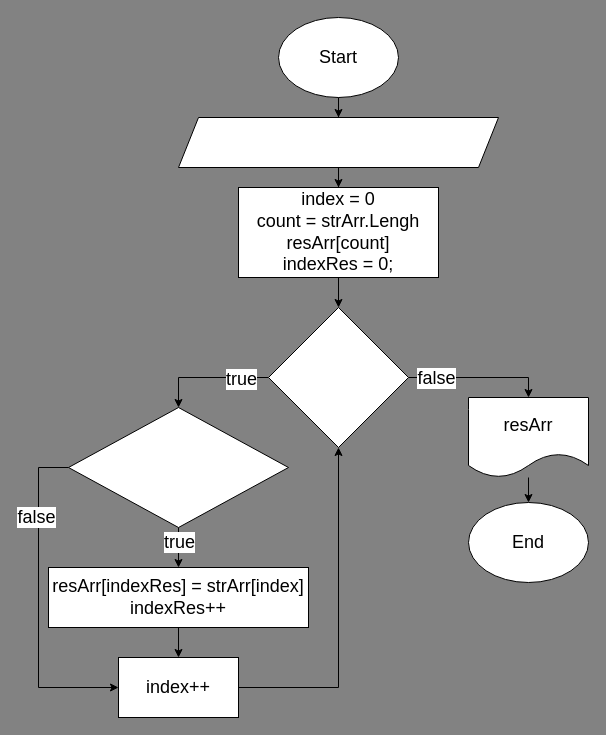
Some shapes in this 606 by 735 pixel diagram are drawn without their labels. The box of each missing label's shape, as (x1, y1, x2, y2) in pixels:
index < count: (268, 306, 408, 448)
strArr = {"hello", "2", "world", ":-)"}: (178, 116, 498, 168)
strArr[index].length < 4: (68, 406, 288, 528)
